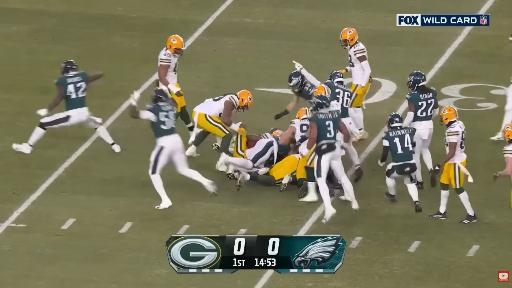Helmet: (339, 27, 358, 49), (439, 106, 458, 126), (407, 72, 426, 91), (289, 71, 306, 92), (237, 90, 253, 111), (167, 35, 184, 53), (152, 87, 170, 103), (312, 95, 330, 111), (387, 113, 403, 129), (314, 84, 330, 99), (61, 60, 77, 74), (328, 71, 344, 84), (296, 107, 311, 120), (409, 71, 426, 82), (503, 123, 512, 143), (272, 130, 282, 136)
Jersey: (310, 110, 339, 155), (56, 72, 88, 110), (407, 88, 437, 127), (383, 127, 415, 162), (194, 94, 239, 117), (324, 81, 351, 118), (147, 104, 176, 138), (445, 121, 466, 162), (349, 42, 367, 85), (158, 48, 178, 85), (291, 119, 309, 145), (295, 83, 316, 105), (274, 136, 290, 154), (502, 144, 512, 158)
Player: (130, 88, 216, 209), (13, 60, 120, 153), (295, 62, 362, 182), (307, 92, 358, 222), (430, 106, 477, 223), (186, 90, 253, 156), (220, 128, 289, 190), (379, 113, 421, 212), (404, 72, 438, 189), (158, 35, 193, 134), (340, 28, 371, 139), (229, 155, 299, 187), (275, 71, 316, 119), (490, 78, 511, 140), (280, 108, 311, 148), (494, 123, 511, 181), (494, 124, 511, 181)
